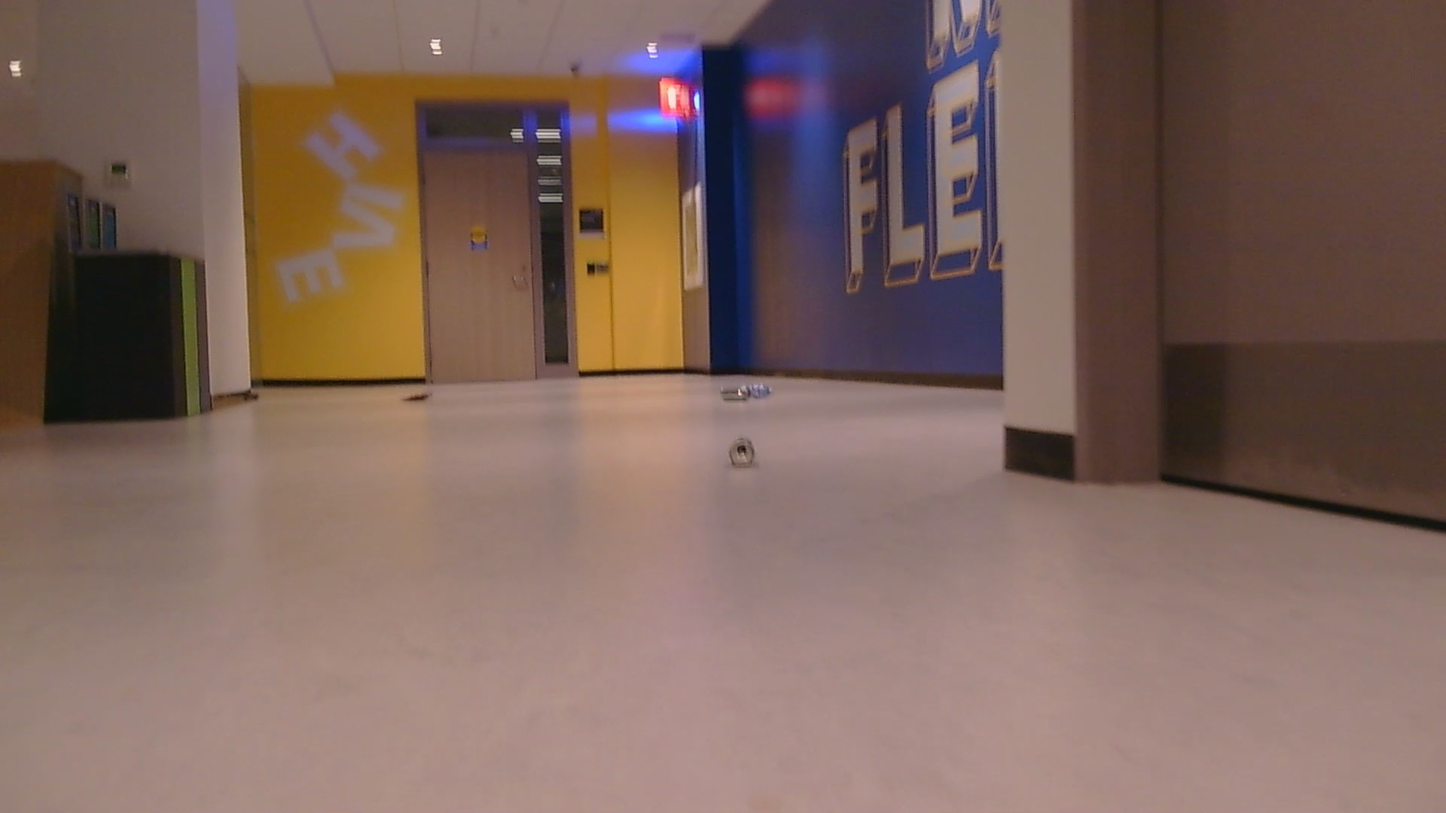carton: (720, 379, 774, 404), (728, 437, 762, 456), (402, 391, 442, 407)
